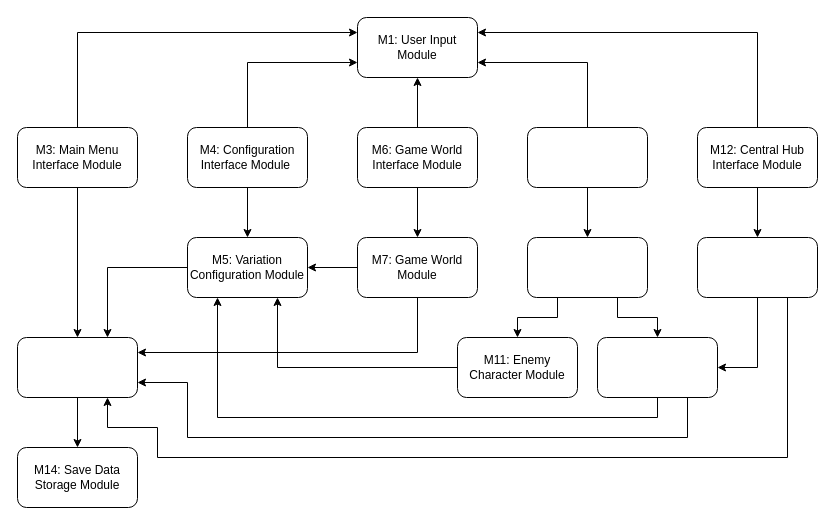
This 835x525 diagram has some shape labels left out. Each missing label, with the box of its shape:
M10: Player Character Module: (596, 336, 718, 398)
M13: Central Hub Module: (696, 236, 818, 298)
M2: Save Data IO Module: (16, 336, 138, 398)
M8: Combat Encounter Interface Module: (526, 126, 648, 188)
M9: Combat Encounter Module: (526, 236, 648, 298)
